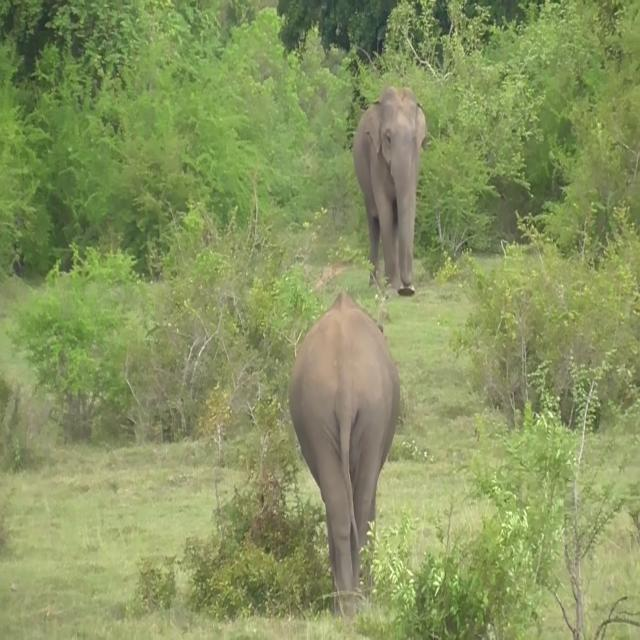Elephant: (288, 290, 400, 618), (352, 84, 428, 294)
